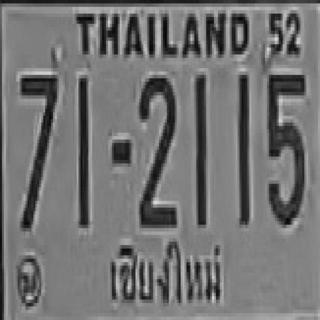N01: (194, 71, 206, 225), (77, 73, 88, 226), (236, 73, 247, 223), (78, 75, 89, 225)
N02: (137, 75, 175, 225)
N05: (265, 71, 304, 225)
N07: (18, 72, 57, 228)
P11: (104, 238, 228, 313)
